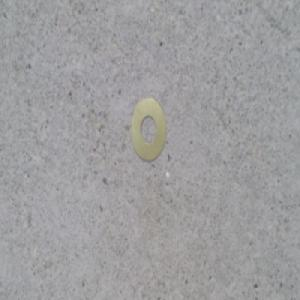Washer: (129, 97, 167, 161)
